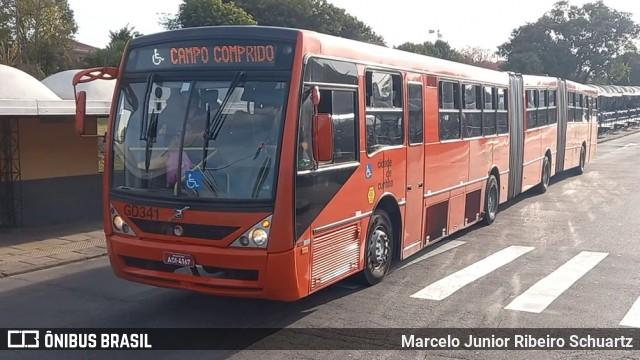CAMPO COMPRIDO: (166, 42, 277, 66)
